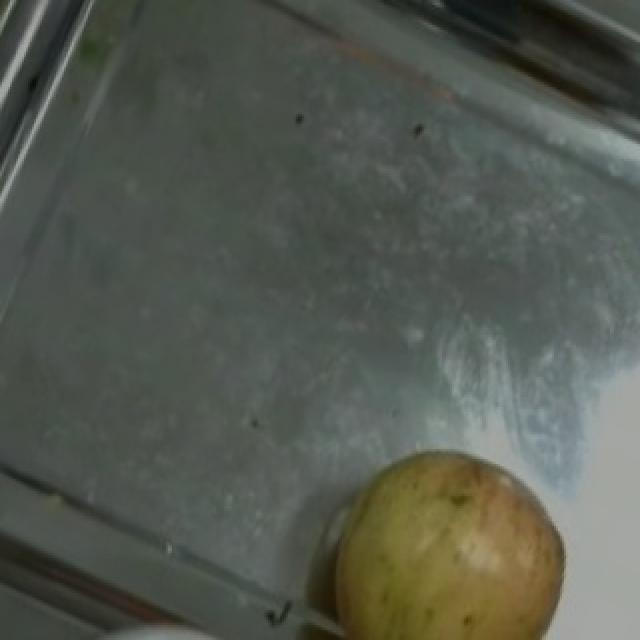fruit: (310, 419, 590, 638)
